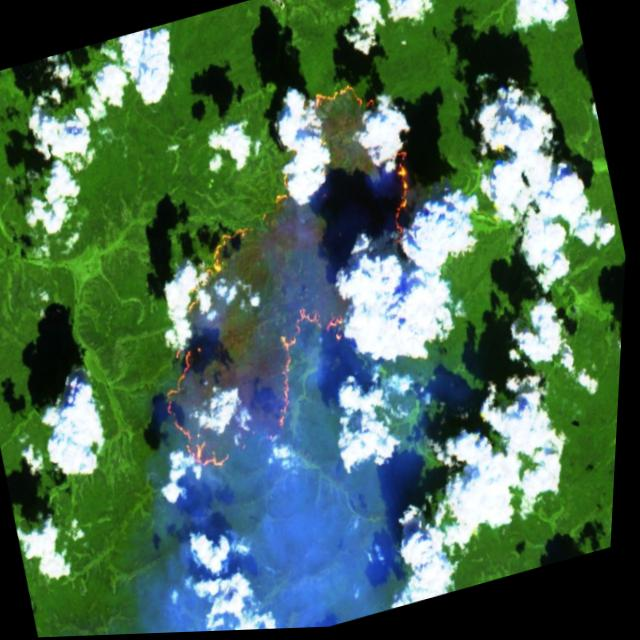fire: (96, 68, 475, 487)
